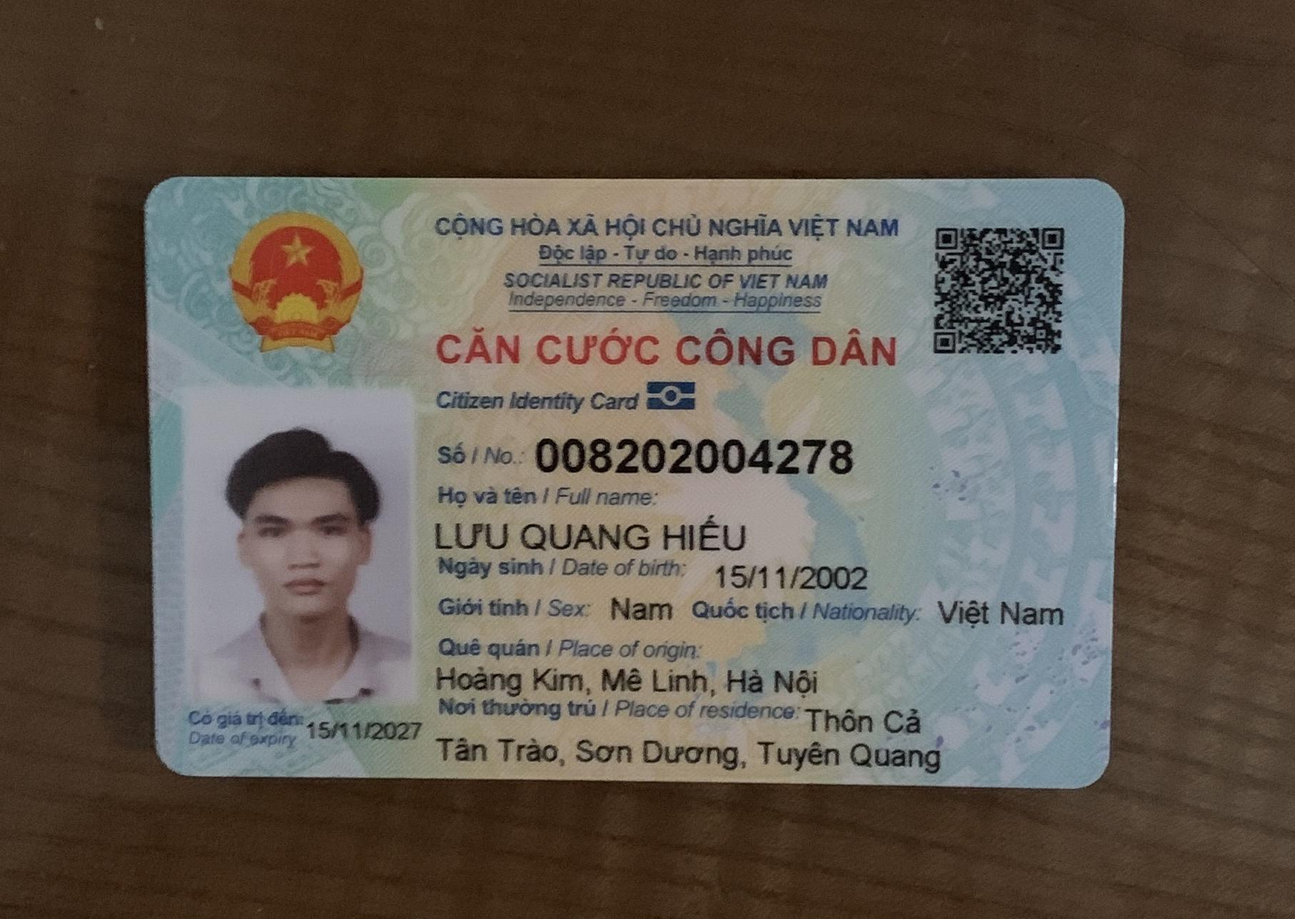ID: (524, 425, 860, 486)
birth: (710, 555, 884, 600)
name: (420, 513, 769, 555)
place: (423, 661, 836, 700)
residence: (433, 730, 949, 782), (805, 701, 931, 741)
